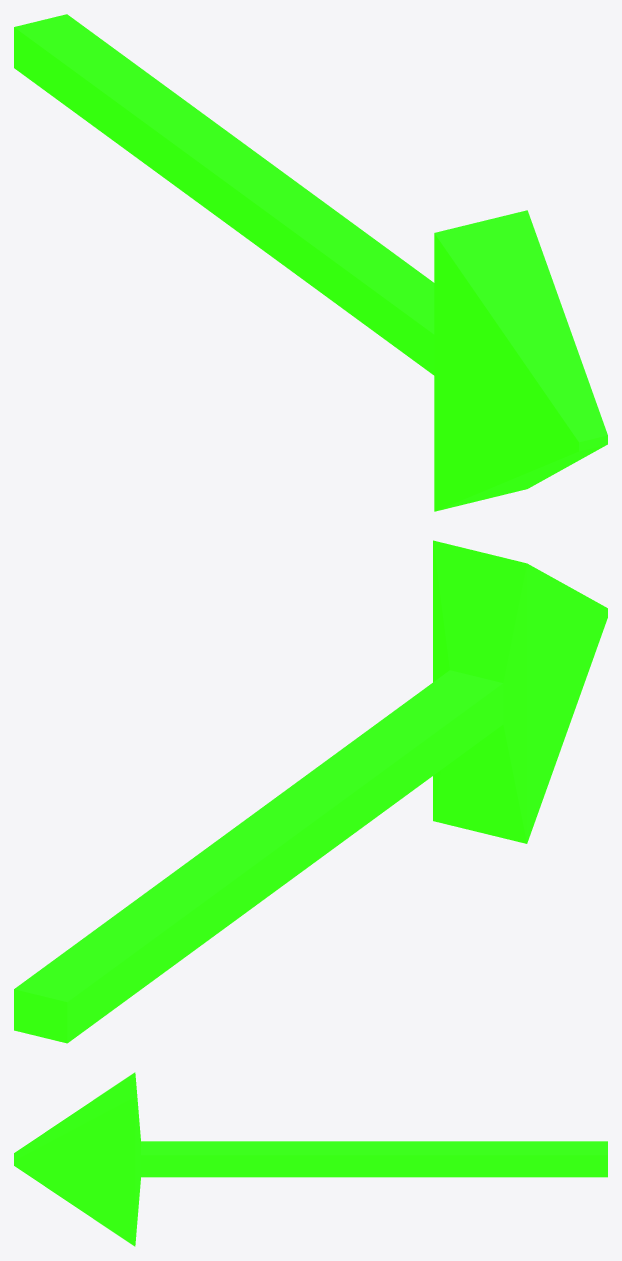
The model's file is arrow.glb.
3 renders of one model, top to bottom at view 1: azimuth 30°, elevation 25°; view 2: azimuth 150°, elevation 25°; view 3: azimuth 270°, elevation 25°, orthographic. The views are drawn at different scales.
Visible parts, largest first — view 1: Cube; view 2: Cube; view 3: Cube.
Boxes of the visible parts, bbox=[...] form: Cube: bbox=[14, 14, 607, 511]; Cube: bbox=[14, 540, 607, 1043]; Cube: bbox=[14, 1072, 607, 1246].
Size of the model in its own units: 1.32 by 3.77 by 13.5.
